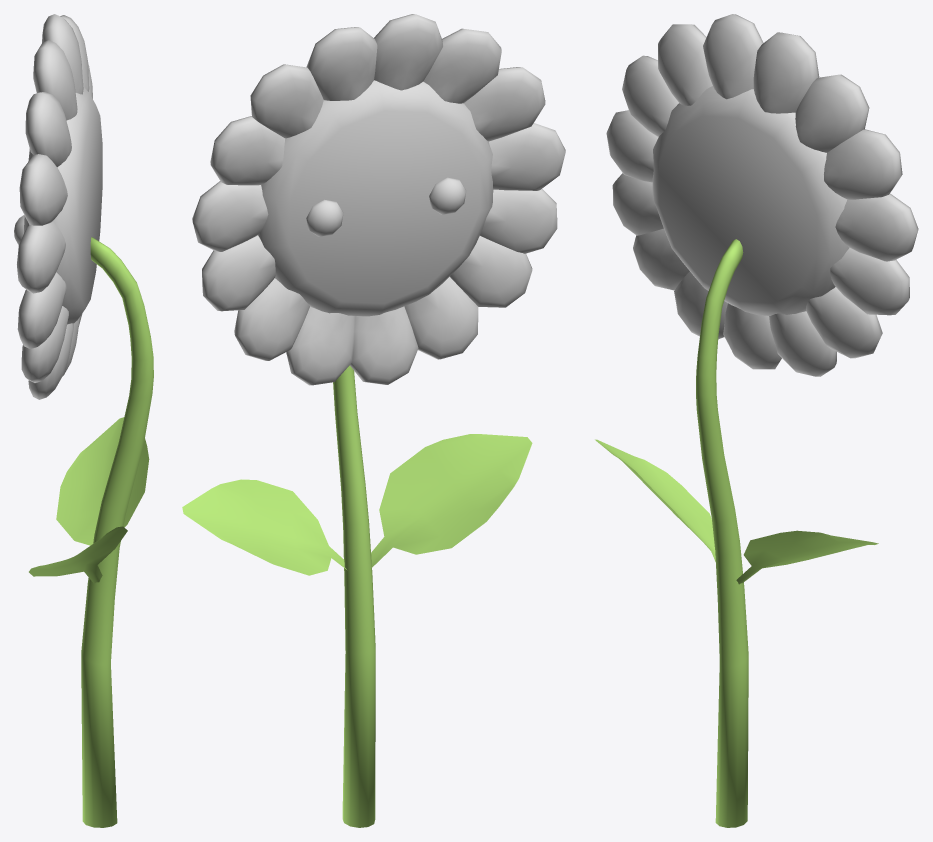
Rendered from fiore grande.fbx.
3 renders of one model, left to right at view 1: azimuth 30°, elevation 25°; view 2: azimuth 150°, elevation 25°; view 3: azimuth 270°, elevation 25°, orthographic. The views are drawn at different scales.
Parts seen in each view (by area): view 1: Plane.004, Sphere.014, Cylinder.016; view 2: Sphere.014, Cylinder.016, Plane.004, Sphere.001; view 3: Sphere.014, Cylinder.016, Plane.004.
Part boxes in pixels (x1,y1,x2,y2): Plane.004: (29,237,153,827); Sphere.014: (17,14,92,399); Cylinder.016: (24,86,102,324); Sphere.014: (192,14,565,385); Cylinder.016: (258,80,493,316); Plane.004: (182,365,532,827); Sphere.001: (306,177,466,236); Sphere.014: (606,14,918,376); Cylinder.016: (652,86,849,315); Plane.004: (595,239,878,827).
Size of the model in its own units: 71.62 by 227 by 85.53.
